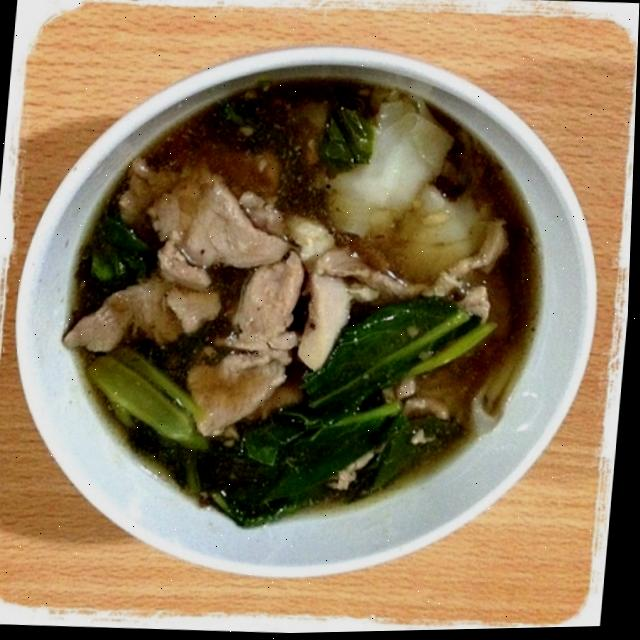面条主食: (15, 45, 597, 599)
